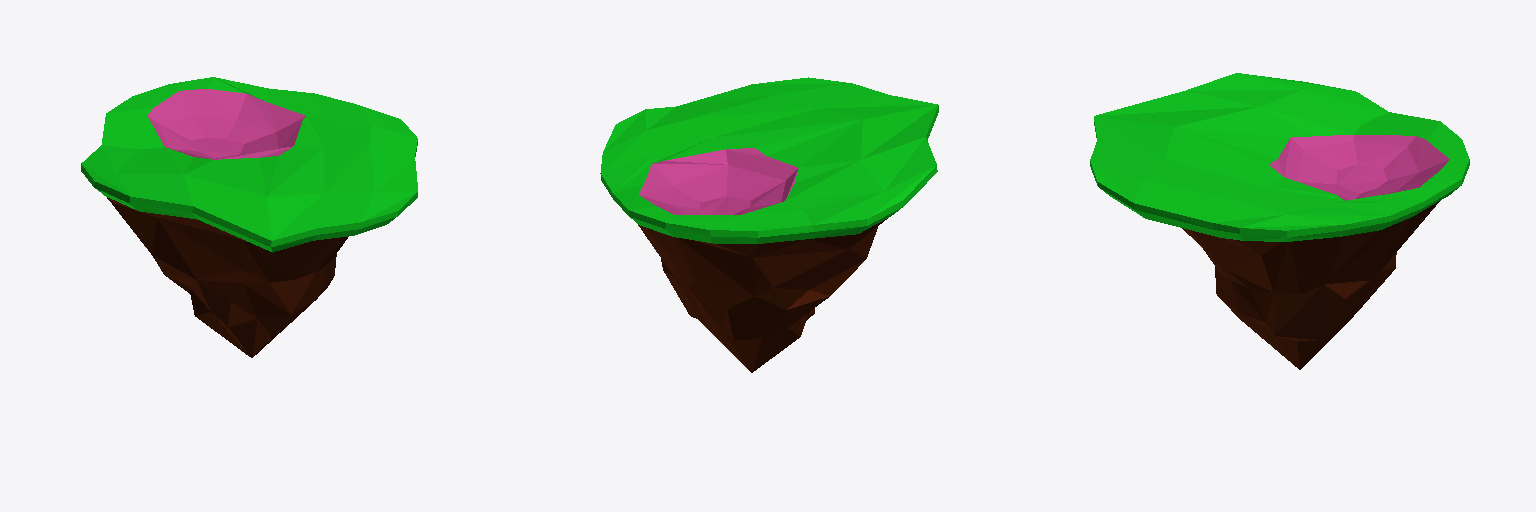
File: oasis_0307.obj
3 views of the same model, side by side, from view 1: azimuth 30°, elevation 25°; view 2: azimuth 150°, elevation 25°; view 3: azimuth 270°, elevation 25° (orthographic).
Parts seen in each view (by area): view 1: world-oasis.009; view 2: world-oasis.009; view 3: world-oasis.009.
Part boxes in pixels (left/top/right/bottom): world-oasis.009: left=81, top=77, right=417, bottom=357; world-oasis.009: left=600, top=77, right=938, bottom=372; world-oasis.009: left=1090, top=73, right=1469, bottom=369.
Size of the model in its own units: 21.56 by 15.42 by 23.82.